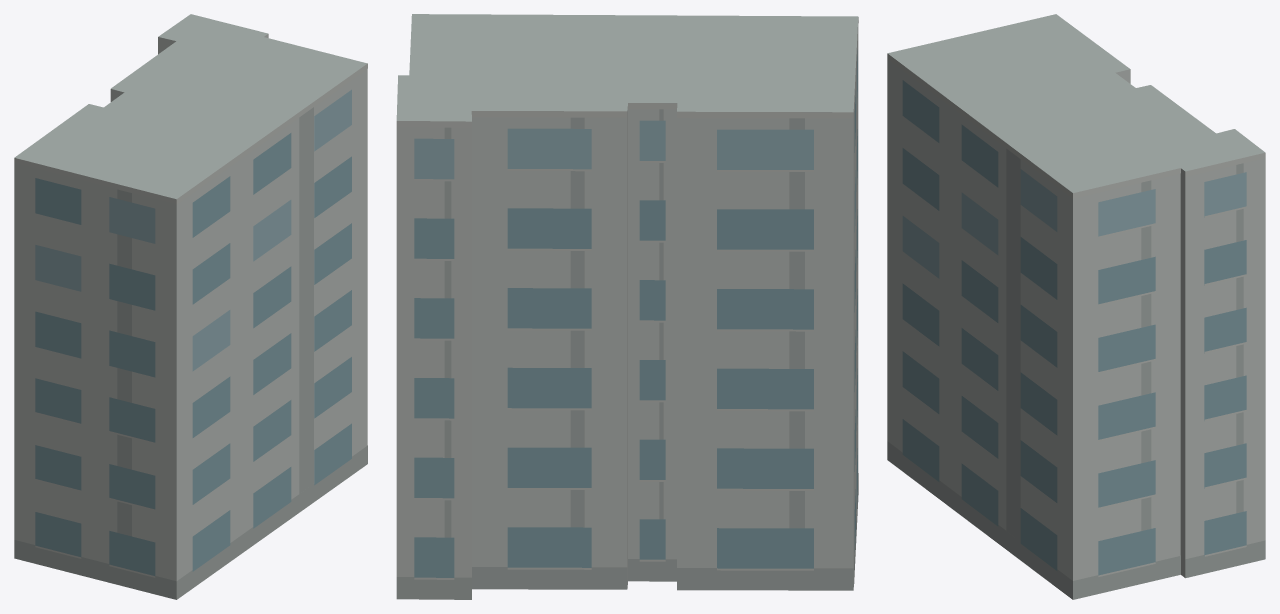
Rendered from survey-upis-32857260.glb.
The picture shows the model from 3 angles, left to right: view 1: azimuth 30°, elevation 25°; view 2: azimuth 150°, elevation 25°; view 3: azimuth 270°, elevation 25°; orthographic projection. The views are drawn at different scales.
Visible parts, largest first — view 1: survey-upis-32857260.tmp; view 2: survey-upis-32857260.tmp; view 3: survey-upis-32857260.tmp.
Part boxes in pixels (bbox=[...]): survey-upis-32857260.tmp: bbox=[14, 14, 367, 599]; survey-upis-32857260.tmp: bbox=[396, 14, 858, 599]; survey-upis-32857260.tmp: bbox=[887, 14, 1265, 599].
Size of the model in its own units: 17.3 by 18.3 by 15.43.
